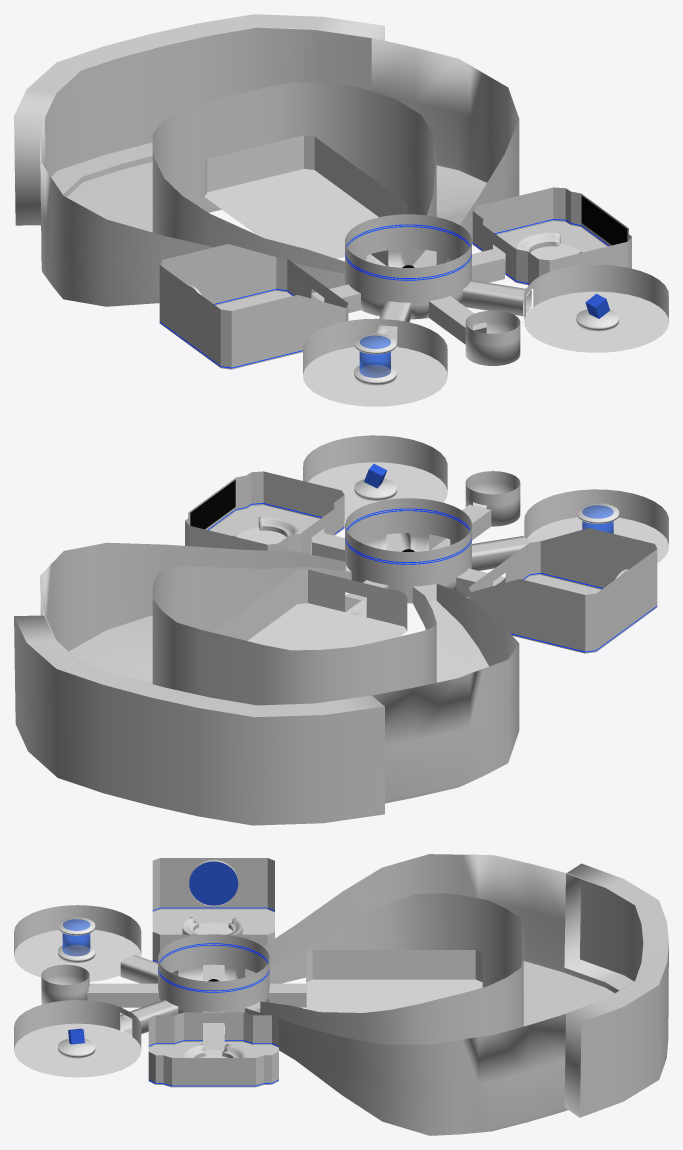
File: SILIQ.glb
3 views of the same model, one above another, from view 1: azimuth 30°, elevation 25°; view 2: azimuth 150°, elevation 25°; view 3: azimuth 270°, elevation 25° (orthographic). The views are drawn at different scales.
Parts seen in each view (by area): view 1: 円柱, 平面.002, 平面.001, 平面.003, 平面, 円柱.009, 円柱.008, 円柱.010, 円柱.007, 円柱.012; view 2: 円柱, 平面.002, 平面.001, 平面.003, 平面, 円柱.010, 円柱.007, 円柱.009, 円柱.012; view 3: 円柱, 平面.001, 平面.003, 平面.002, 円柱.015, 円柱.009, 円柱.008, 円柱.010, 円柱.007, 円柱.012, 円柱.016.
Part boxes in pixels (box(x1,y1,x2,y2)): 円柱: box(14, 14, 668, 406); 平面.002: box(159, 244, 348, 369); 平面.001: box(204, 135, 407, 266); 平面.003: box(472, 187, 631, 288); 平面: box(581, 196, 627, 245); 円柱.009: box(359, 335, 390, 377); 円柱.008: box(354, 363, 396, 385); 円柱.010: box(354, 333, 396, 354); 円柱.007: box(576, 309, 618, 331); 円柱.012: box(515, 232, 582, 260); 円柱: box(14, 435, 668, 825); 平面.002: box(468, 528, 657, 653); 平面.001: box(213, 569, 407, 650); 平面.003: box(185, 471, 344, 554); 平面: box(190, 480, 235, 529); 円柱.010: box(576, 503, 619, 523); 円柱.007: box(354, 478, 396, 500); 円柱.009: box(582, 505, 613, 533); 円柱.012: box(233, 517, 300, 537); 円柱: box(14, 854, 668, 1135); 平面.001: box(306, 950, 482, 1012); 平面.003: box(148, 1012, 278, 1087); 平面.002: box(152, 858, 274, 979); 円柱.015: box(188, 860, 238, 906); 円柱.009: box(62, 919, 90, 956); 円柱.008: box(58, 943, 95, 962); 円柱.010: box(58, 917, 95, 935); 円柱.007: box(58, 1038, 95, 1058); 円柱.012: box(183, 1044, 246, 1057); 円柱.016: box(182, 917, 242, 934).
Bounding box in the file's own units: 454 × 111 × 658.
